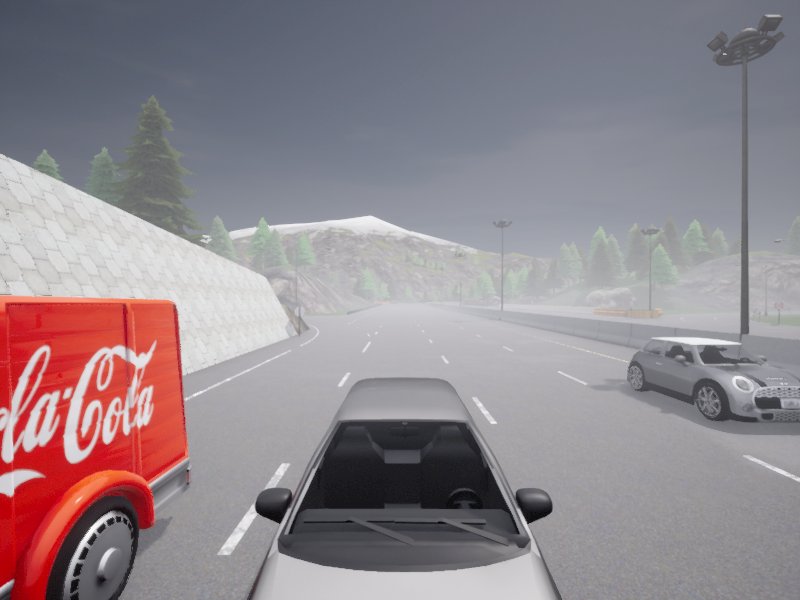vehicle: (247, 378, 561, 599), (0, 295, 192, 599), (628, 337, 799, 422)
